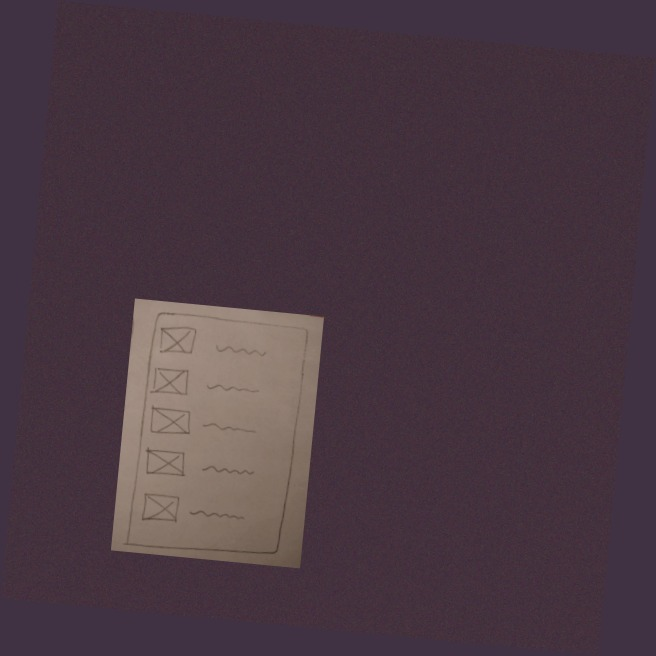image: (136, 491, 185, 526), (142, 444, 190, 479), (146, 404, 194, 438), (157, 324, 198, 359), (149, 365, 191, 399)
text: (187, 501, 251, 526), (204, 375, 263, 400), (211, 338, 269, 363), (200, 415, 258, 440), (199, 456, 257, 481)
